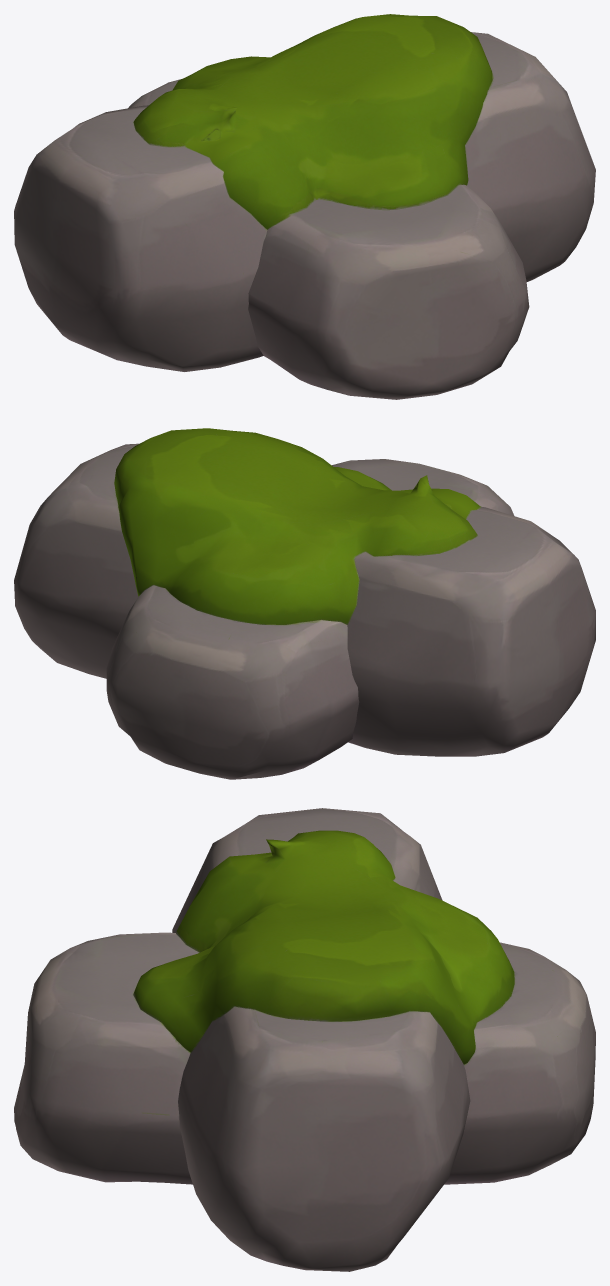
Rendered from stones.glb.
The picture shows the model from 3 angles, top to bottom: view 1: azimuth 30°, elevation 25°; view 2: azimuth 150°, elevation 25°; view 3: azimuth 270°, elevation 25°; orthographic projection. The views are drawn at different scales.
Size of the model in its own units: 1 by 0.4301 by 0.897.
Materials: 1 (1 with a texture image).
